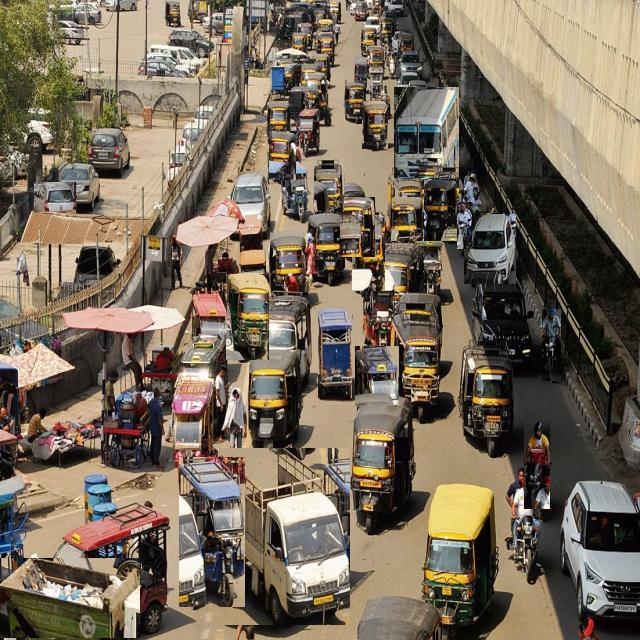autorickshaw: (49, 504, 169, 634), (422, 484, 499, 627), (179, 458, 245, 607), (350, 395, 415, 526), (458, 340, 514, 456), (391, 294, 442, 420), (248, 351, 302, 456), (172, 374, 216, 484), (261, 292, 311, 384), (226, 274, 269, 360), (318, 309, 352, 398), (361, 269, 395, 347), (355, 347, 399, 406), (309, 214, 345, 284), (269, 231, 308, 293), (352, 216, 384, 291), (380, 242, 425, 293), (424, 180, 459, 241), (340, 197, 375, 257), (415, 228, 442, 295), (280, 162, 309, 220), (289, 86, 331, 126), (192, 292, 226, 340), (314, 160, 344, 212), (391, 197, 422, 241), (388, 167, 422, 206), (269, 131, 296, 180), (362, 101, 388, 149), (299, 109, 320, 156), (344, 82, 366, 122), (268, 101, 290, 136), (165, 0, 181, 27)
bus: (394, 87, 459, 178)
car: (560, 481, 640, 621), (472, 272, 534, 365), (464, 213, 516, 284), (231, 173, 270, 234), (89, 128, 130, 175), (61, 164, 100, 210), (168, 28, 214, 59), (542, 309, 560, 381), (34, 183, 76, 213)
motorcycle: (512, 477, 541, 581), (524, 422, 550, 509), (457, 203, 471, 249)
truck: (219, 449, 350, 625), (0, 559, 140, 638)
